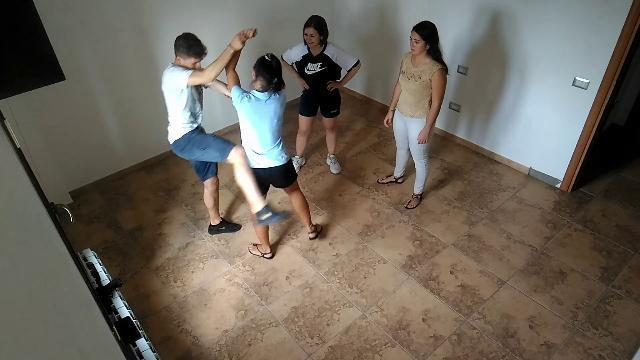non-violence: (278, 14, 364, 176), (375, 20, 447, 210)
violence: (158, 28, 328, 261)
